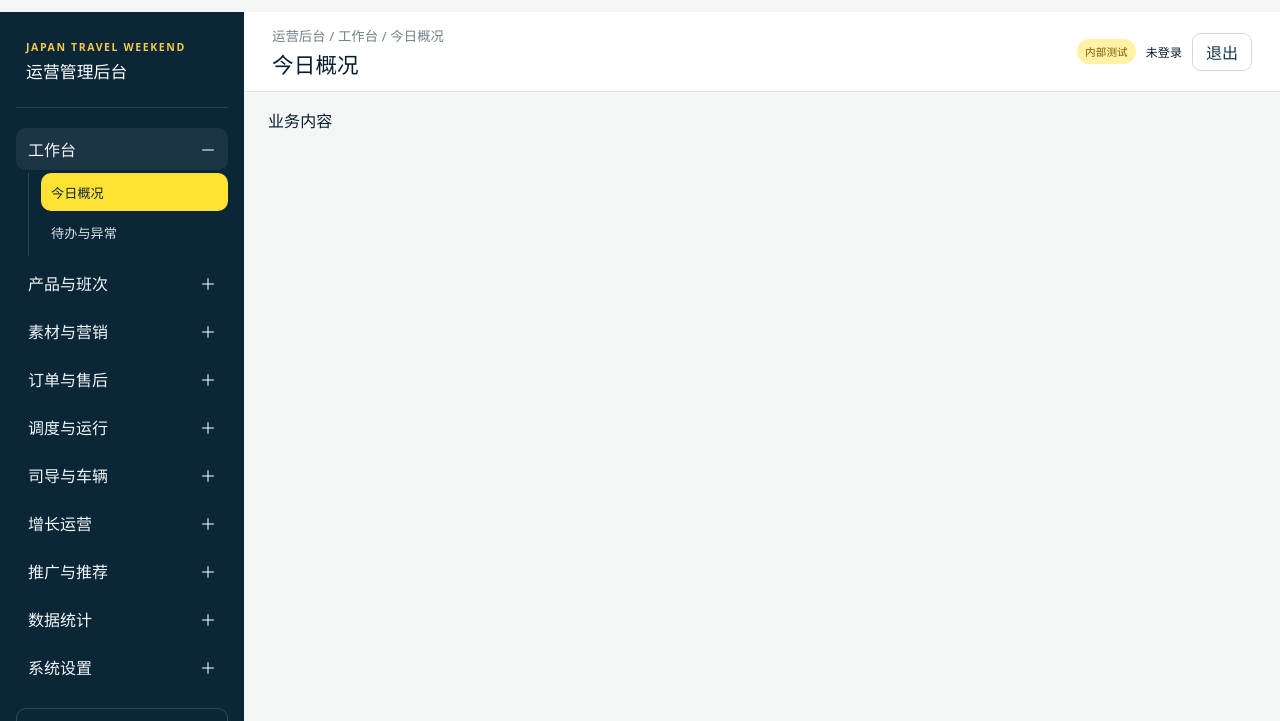
V10 运营后台分组导航 › 折叠组可展开且游客预览保持新标签
The image size is (1280, 721).
Click the button "素材与营销 ＋" at (122, 331), box [16, 310, 228, 352]
(page scrolled)
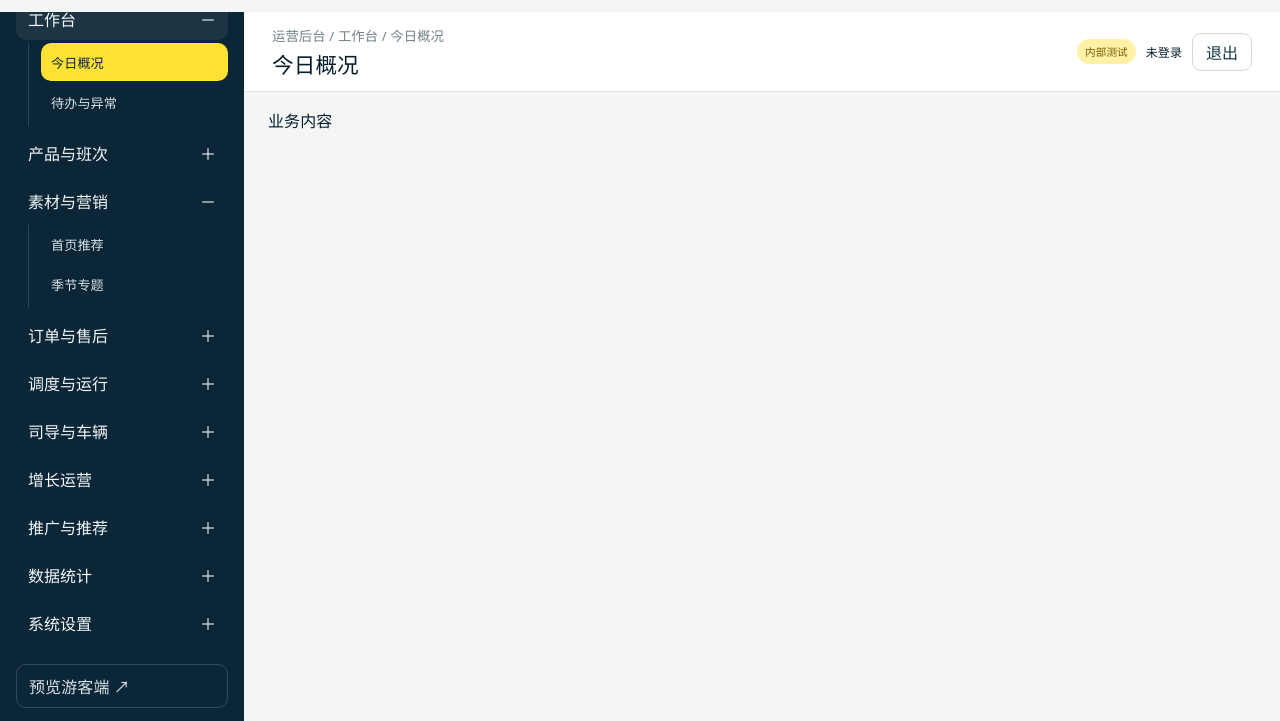
Now the link "首页推荐" is shown, box [51, 236, 104, 254]
